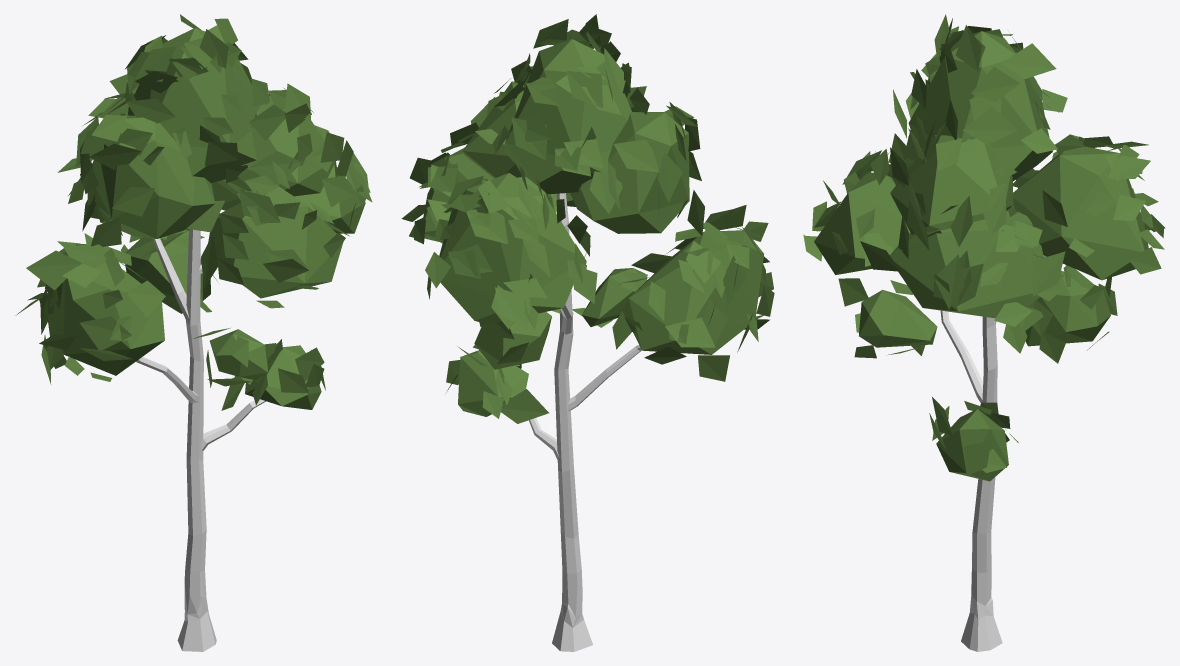
Rendered from SM_Tree_Beech_Young_A.fbx.
3 views of the same model, side by side, from view 1: azimuth 30°, elevation 25°; view 2: azimuth 150°, elevation 25°; view 3: azimuth 270°, elevation 25° (orthographic).
Visible parts, largest first — view 1: tree-beech-young-a; view 2: tree-beech-young-a; view 3: tree-beech-young-a.
Boxes of the visible parts, bbox=[...] form: tree-beech-young-a: bbox=[15, 14, 372, 651]; tree-beech-young-a: bbox=[401, 14, 774, 651]; tree-beech-young-a: bbox=[803, 14, 1165, 651].
Bounding box in the file's own units: 3.44 × 5.91 × 3.1.
